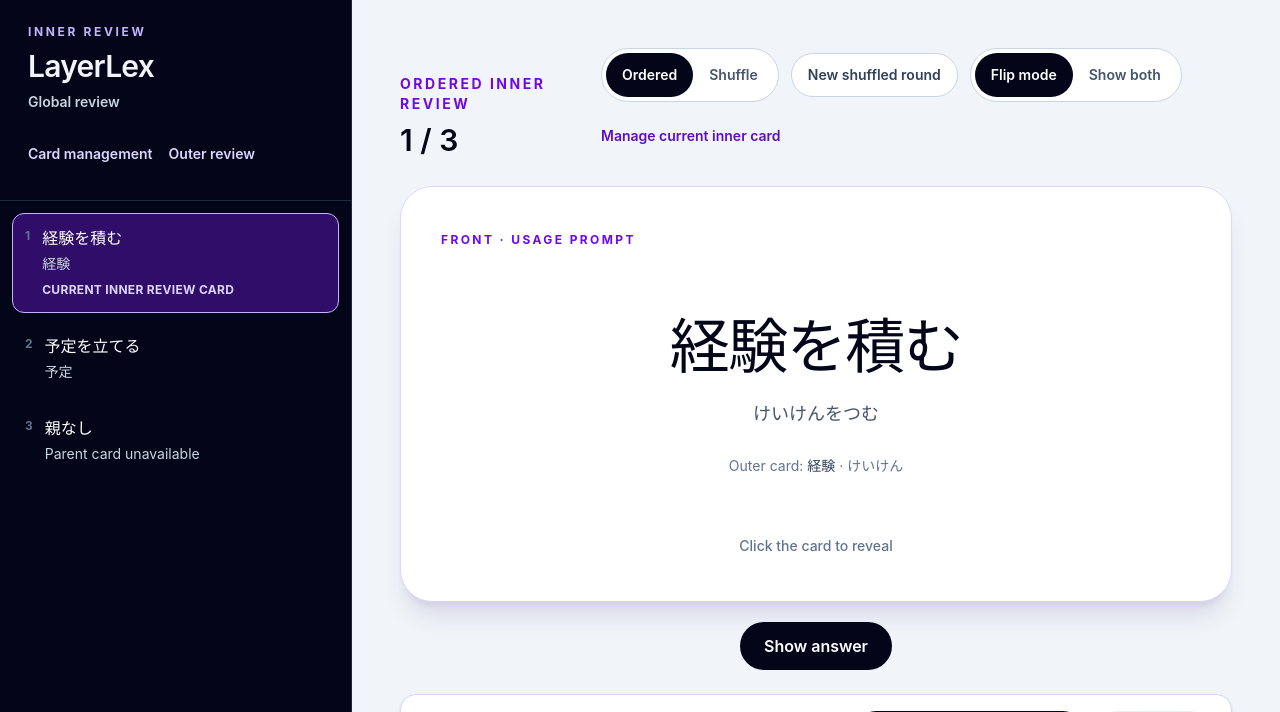
Test: inner review deck states and routing › uses directory links as URL-backed selection
Click the link "3 親なし Parent card unavailable": click(69, 428) [25,418,200,462]
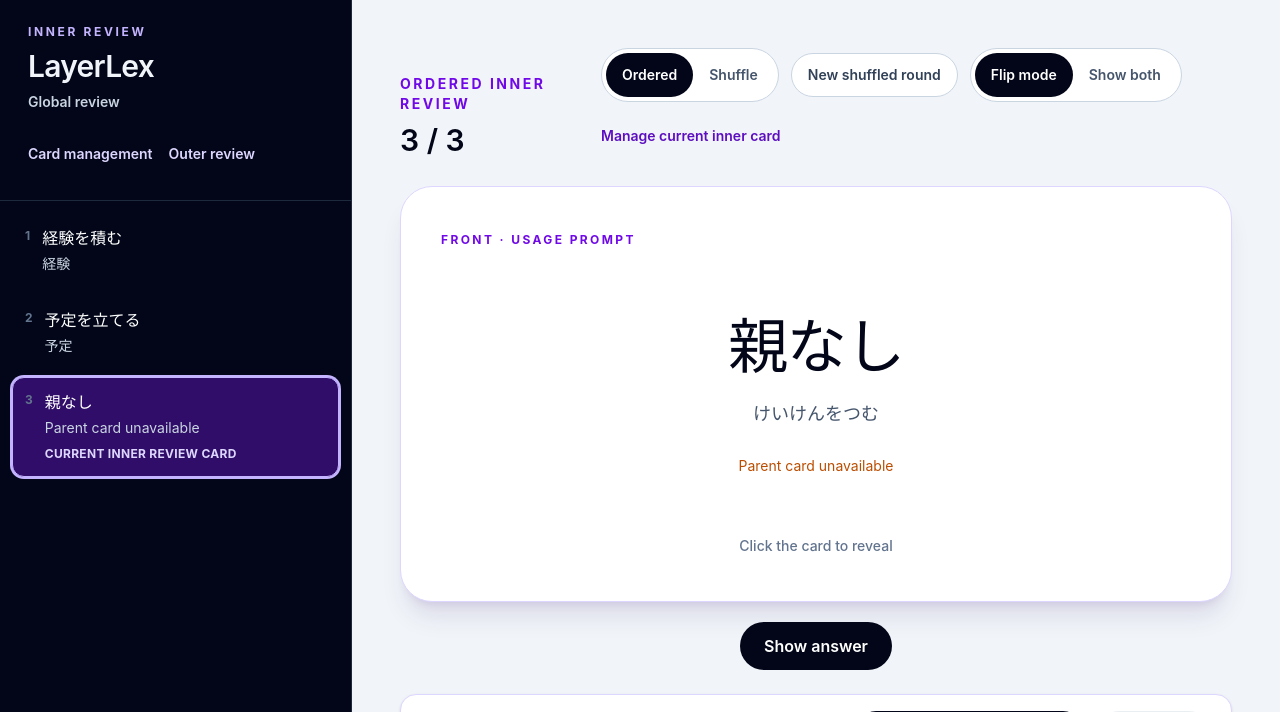
Now the text named "Inner review progress" reads "3 / 3", box [400,122,465,158]
